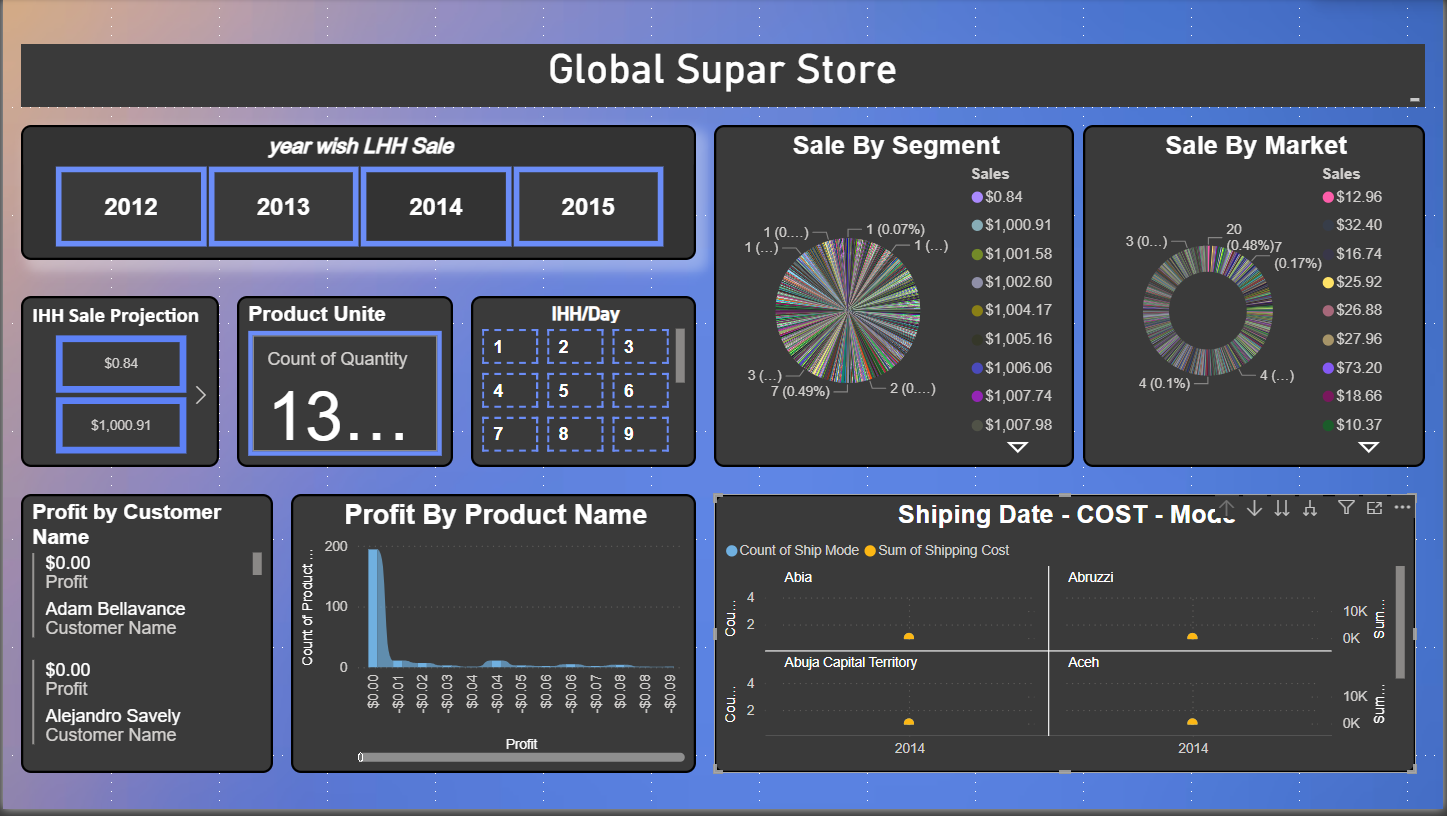

Layout of this report page (visuals, bound fields, positions):
{"tool":"powerbi","page":{"name":"Page 1","canvas":[1280,720],"ordinal":0},"visuals":[{"type":"slicer","title":"year wish LHH Sale","fields":{"Values":["global_superstore.Year"]},"box":[16,112,600,120],"z":0},{"type":"slicer","title":"IHH Sale Projection","fields":{"Values":["global_superstore.Sales"]},"box":[16,264,176,152],"z":1000},{"type":"cardVisual","title":"Product Unite","fields":{"Data":["CountNonNull(global_superstore.Quantity)"]},"box":[208,264,192,152],"z":2000},{"type":"cardVisual","title":"IHH/Day","fields":{"Rows":["global_superstore.Ship Date.Variation.Date Hierarchy.Day"]},"box":[416,264,200,152],"z":3000},{"type":"pieChart","title":" Sale By Segment ","fields":{"Series":["global_superstore.Sales"],"Y":["CountNonNull(global_superstore.Segment)"]},"box":[632,112,320,304],"z":4000},{"type":"donutChart","title":"Sale By Market","fields":{"Category":["global_superstore.Sales"],"Y":["CountNonNull(global_superstore.Market)"]},"box":[960,112,304,304],"z":5000},{"type":"multiRowCard","title":"Profit by Customer Name","fields":{"Values":["global_superstore.Profit","global_superstore.Customer Name"]},"box":[16,440,224,248],"z":6000},{"type":"ribbonChart","title":" Profit By Product Name ","fields":{"Category":["global_superstore.Profit"],"Y":["CountNonNull(global_superstore.Product Name)"]},"box":[256,440,360,248],"z":7000},{"type":"lineChart","title":"Shiping Date - COST - Mode","fields":{"Category":["global_superstore.Ship Date.Variation.Date Hierarchy.Year","global_superstore.Ship Date.Variation.Date Hierarchy.Quarter","global_superstore.Ship Date.Variation.Date Hierarchy.Month","global_superstore.Ship Date.Variation.Date Hierarchy.Day"],"Y":["Count(global_superstore.Ship Mode)"],"Y2":["Sum(global_superstore.Shipping Cost)"],"Rows":["global_superstore.State"]},"box":[632,440,624,248],"z":8000},{"type":"textbox","title":"Global Supar Store","box":[16,40,1248,56],"z":9000}]}

Visuals, with their boxes in screenshot pixels (x1, y1, x2, y2), scaled from the page's 1280x720 canvas onto the 1447x816 screenshot:
"year wish LHH Sale" slicer: region(18, 127, 696, 263)
"IHH Sale Projection" slicer: region(18, 299, 217, 471)
"Product Unite" cardVisual: region(235, 299, 452, 471)
"IHH/Day" cardVisual: region(470, 299, 696, 471)
" Sale By Segment " pieChart: region(714, 127, 1076, 471)
"Sale By Market" donutChart: region(1085, 127, 1429, 471)
"Profit by Customer Name" multiRowCard: region(18, 499, 271, 780)
" Profit By Product Name " ribbonChart: region(289, 499, 696, 780)
"Shiping Date - COST - Mode" lineChart: region(714, 499, 1420, 780)
"Global Supar Store" textbox: region(18, 45, 1429, 109)
